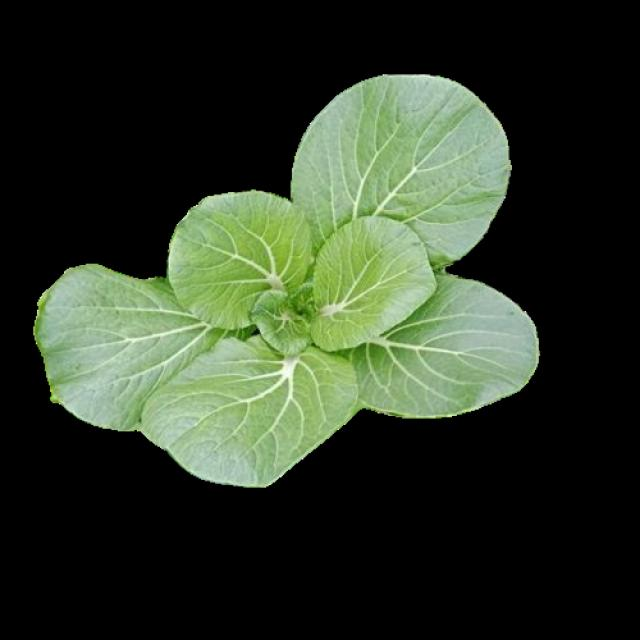healthy: (36, 74, 535, 483)
mature: (39, 77, 538, 485)
